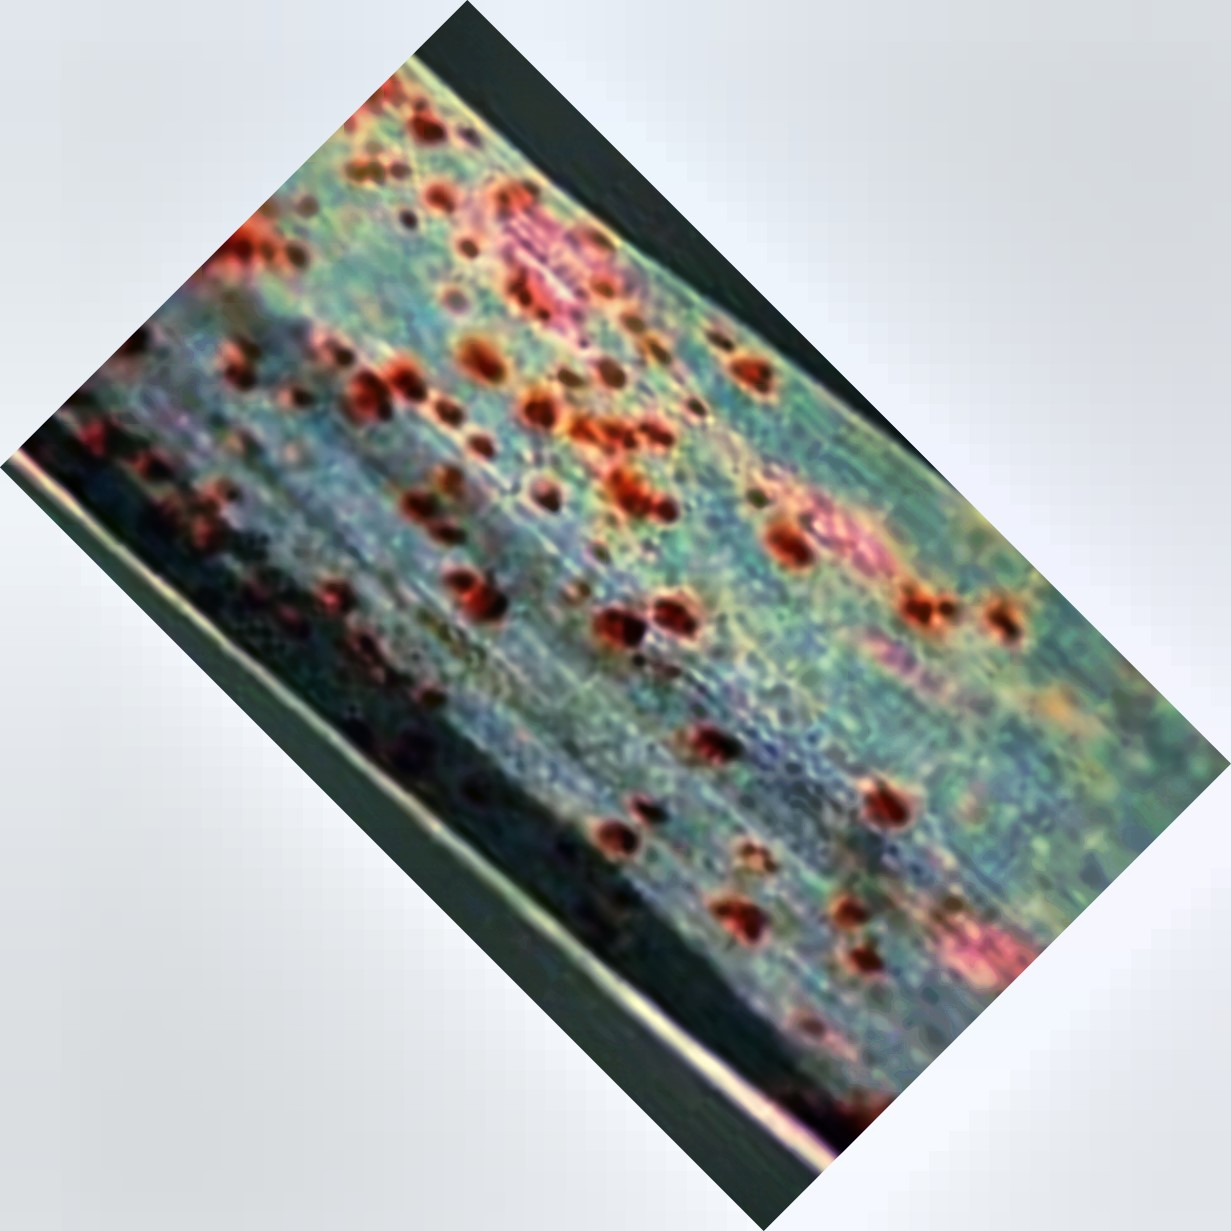Leaf Rust: (201, 130, 974, 968)
